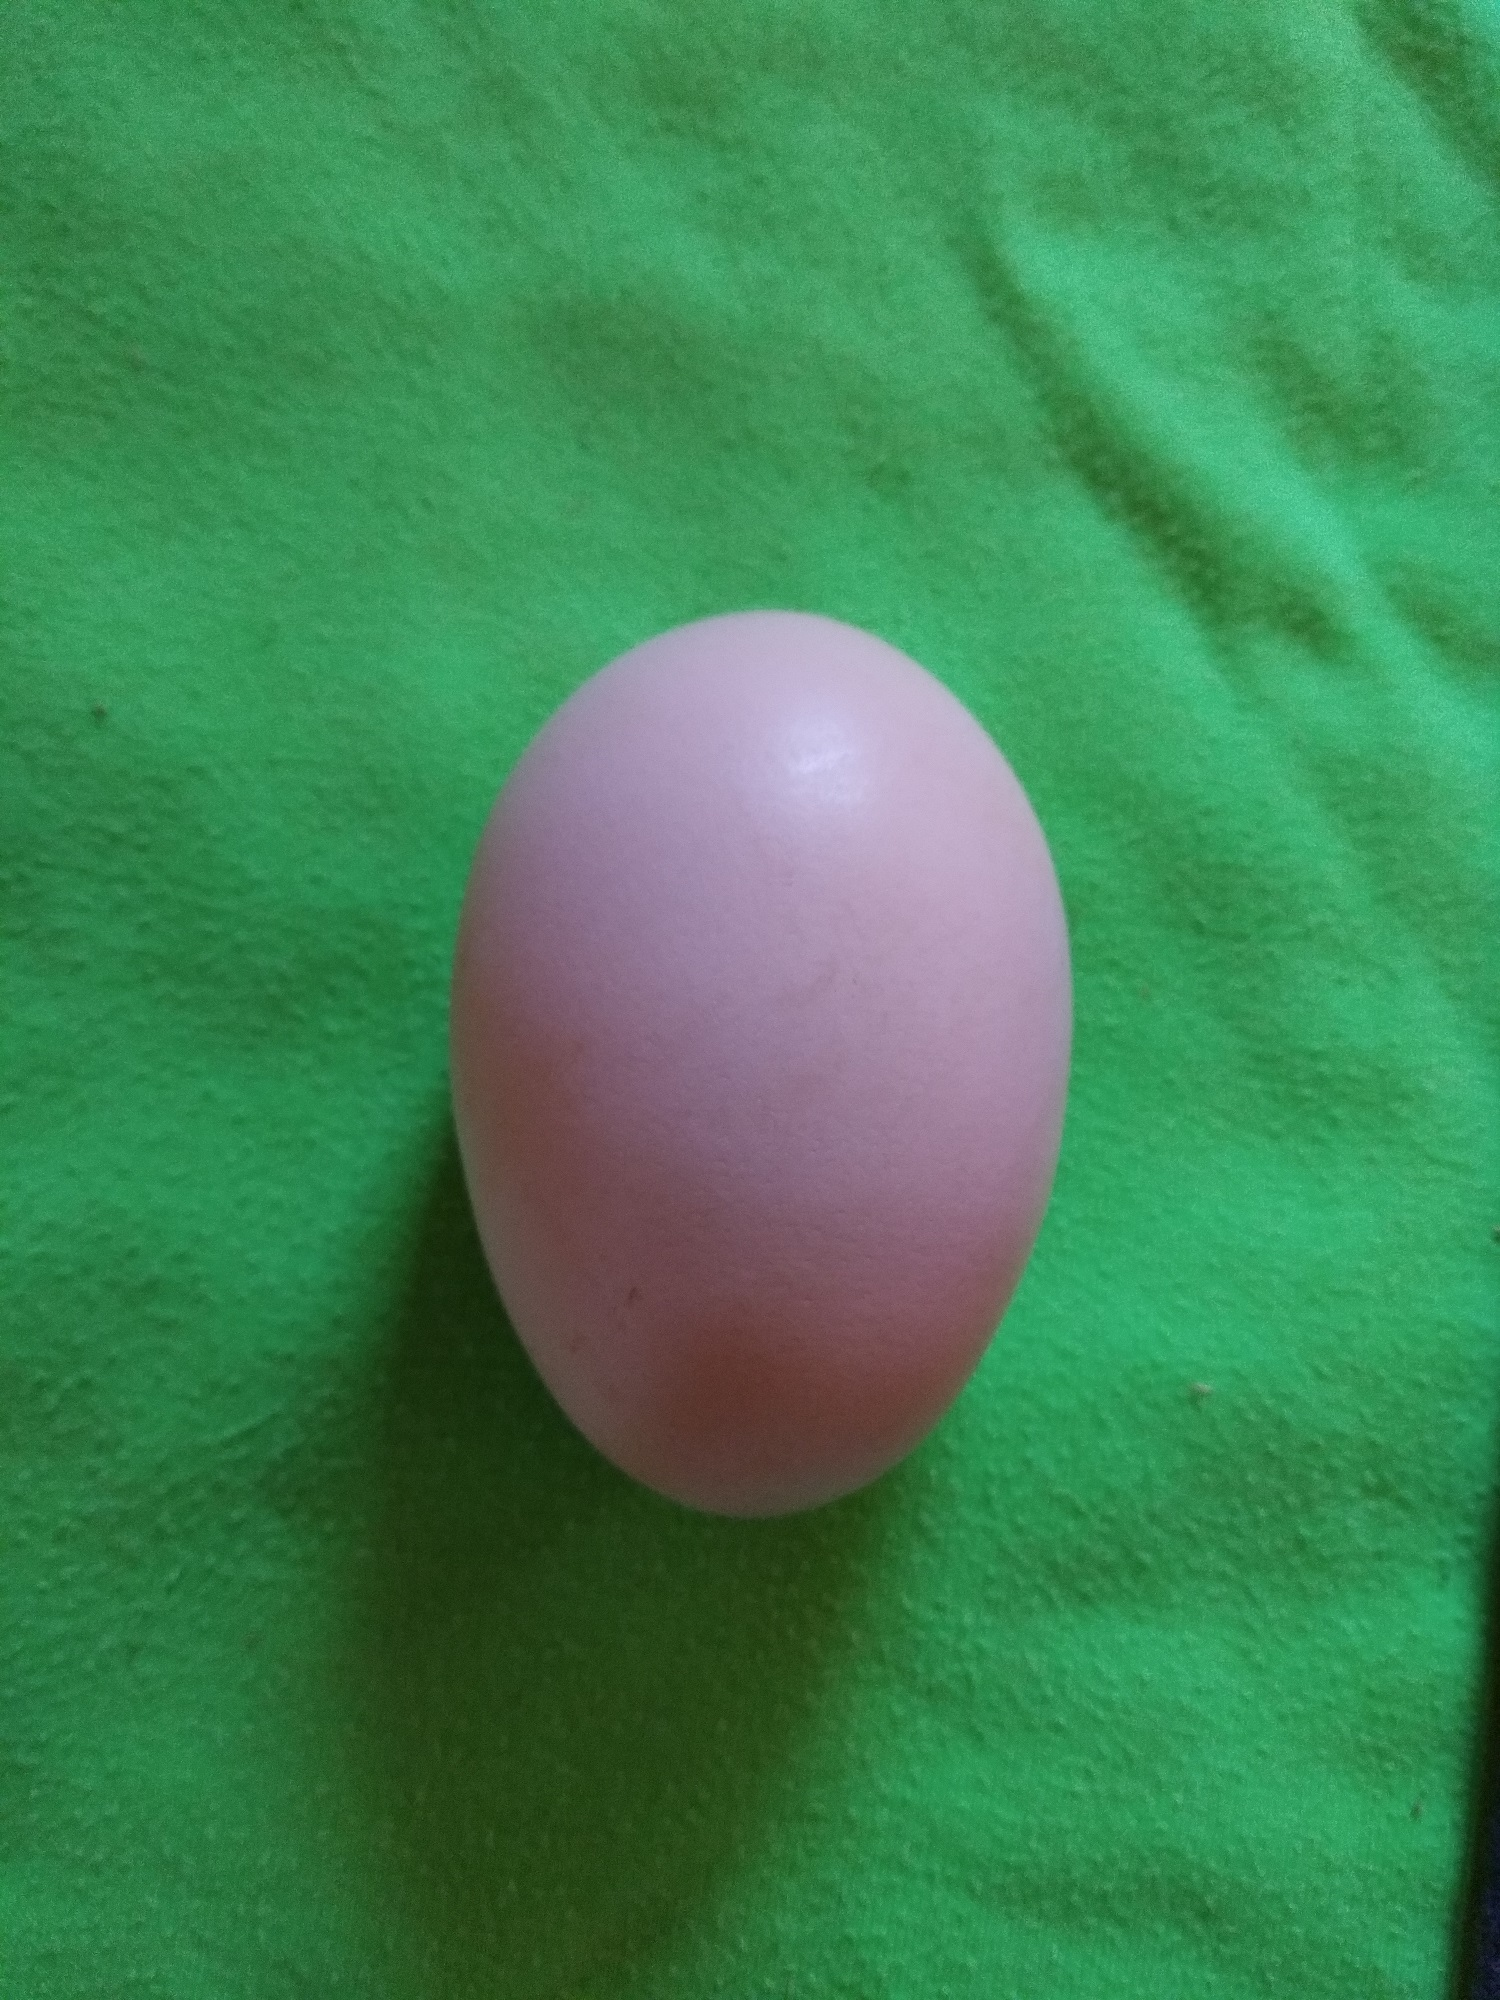Male: (436, 598, 1081, 1532)
